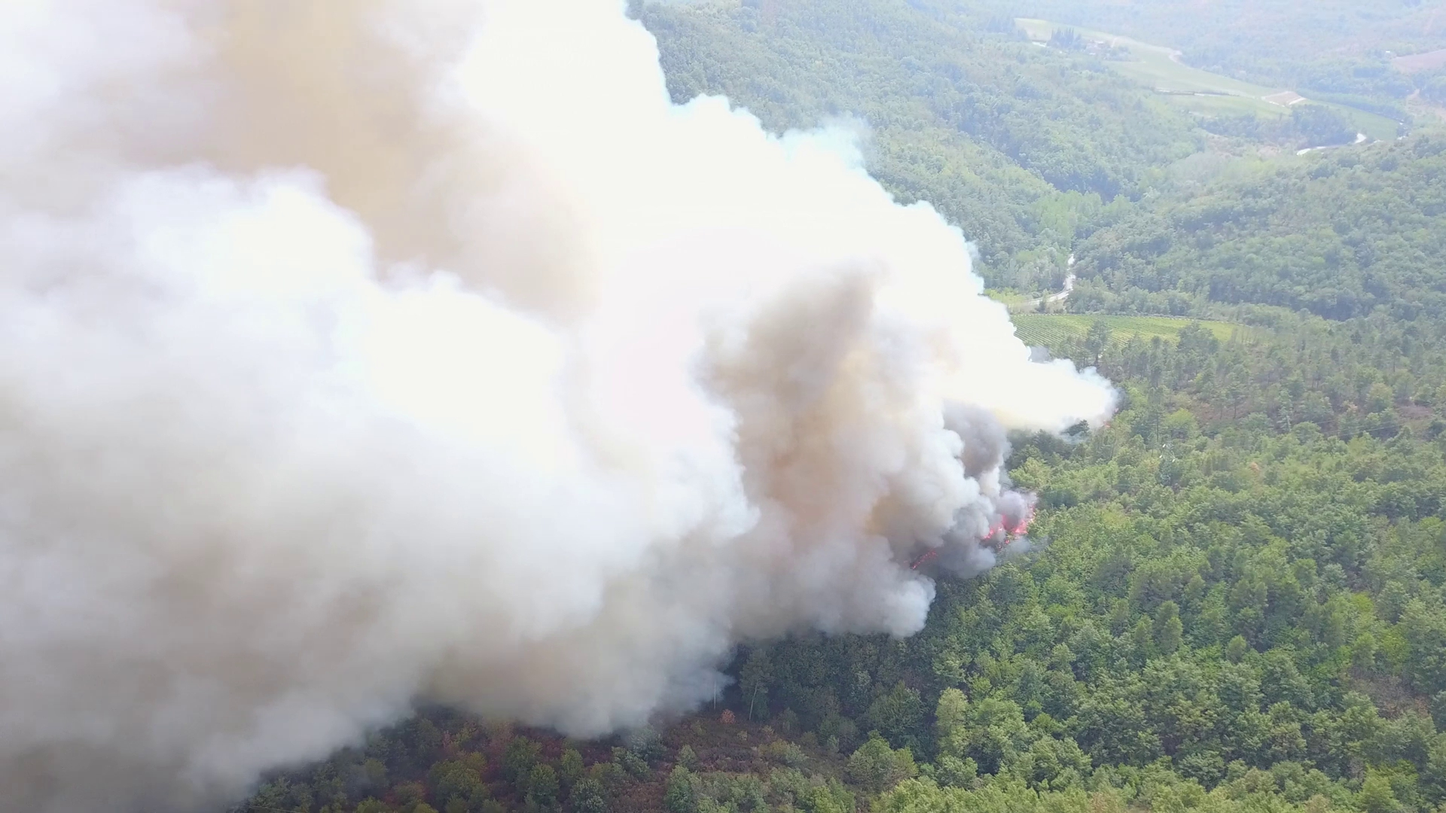forest_fire: (981, 495, 1033, 548), (911, 554, 932, 568)
